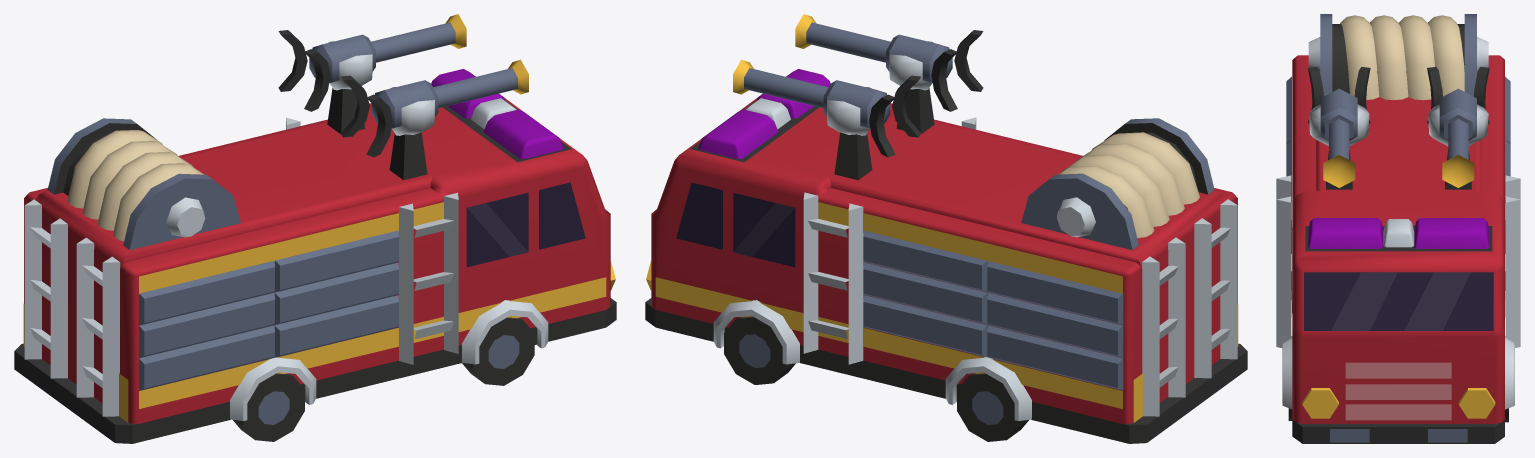
Rendered from FireCar.fbx.
3 views of the same model, side by side, from view 1: azimuth 30°, elevation 25°; view 2: azimuth 150°, elevation 25°; view 3: azimuth 270°, elevation 25° (orthographic). The views are drawn at different scales.
Visible parts, largest first — view 1: FireCar, Light_mesh; view 2: FireCar, Light_mesh; view 3: FireCar, Light_mesh.
Boxes of the visible parts, x1=… form: FireCar: x1=14, y1=14, x2=616, y2=443; Light_mesh: x1=431, y1=69, x2=563, y2=158; FireCar: x1=645, y1=14, x2=1247, y2=443; Light_mesh: x1=698, y1=69, x2=830, y2=158; FireCar: x1=1276, y1=14, x2=1520, y2=443; Light_mesh: x1=1308, y1=218, x2=1489, y2=248.
Size of the model in its own units: 25.33 by 14.77 by 11.13.
